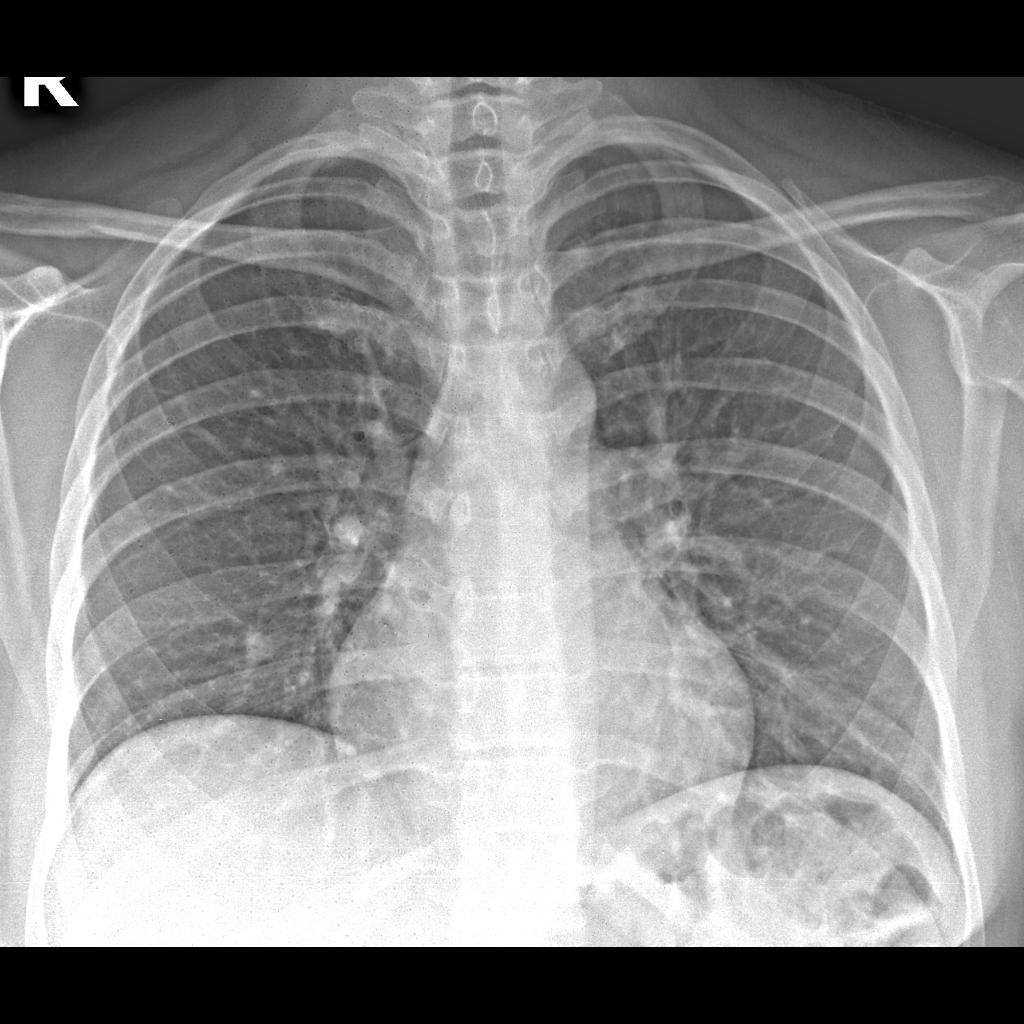Nodule: (235, 616, 287, 673)
